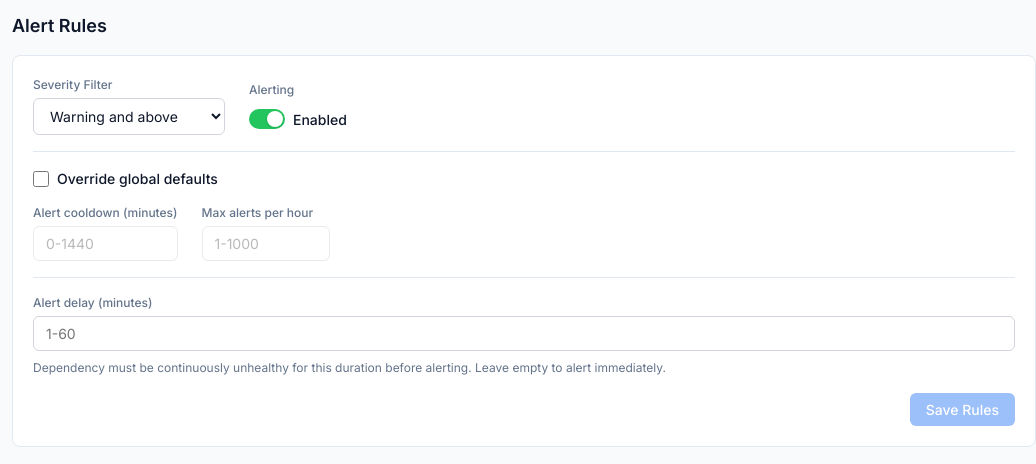
Test: AlertRules › enables threshold inputs when override checked
Check: the text "Override global defaults" is shown, box [57,168,218,189]
Click the checkbox: click(41, 178) [33,170,49,186]
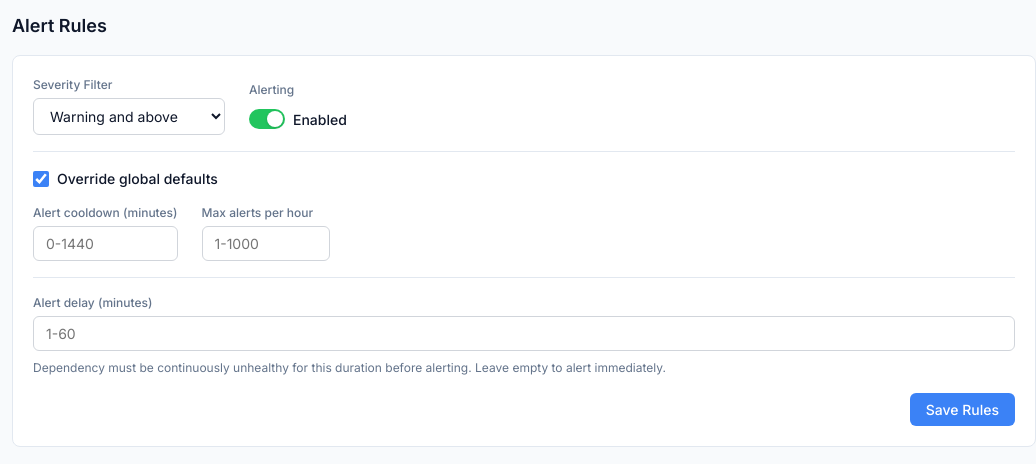
Check: the number field with placeholder "0-1440" is enabled, box [33,226,178,260]
Check: the number field with placeholder "1-1000" is enabled, box [202,226,330,260]
